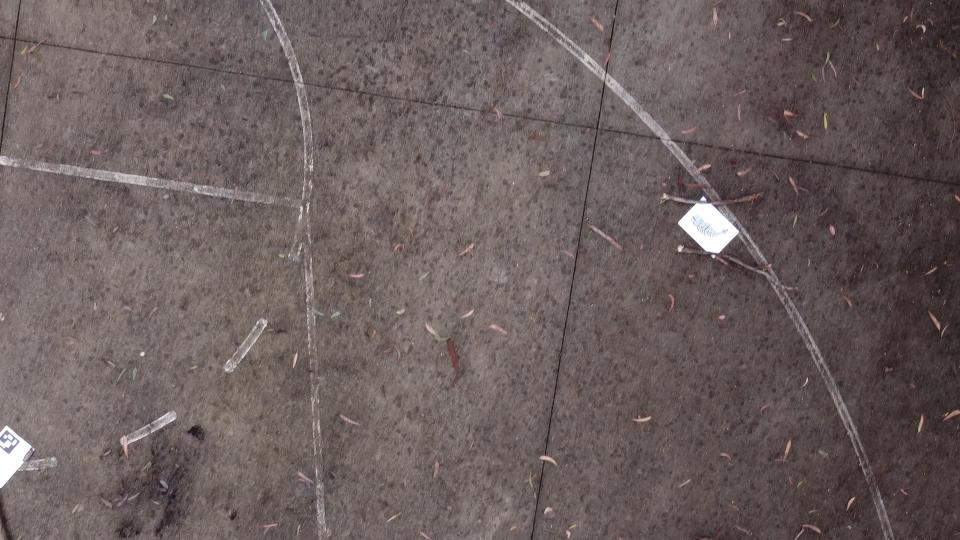aruco: (0, 428, 22, 456)
zebra_single: (689, 213, 731, 240)
